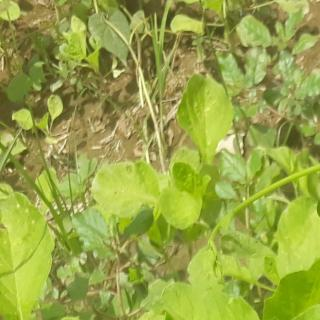karat_putih: (1, 189, 49, 266)
virus_keriting: (30, 312, 104, 320)
